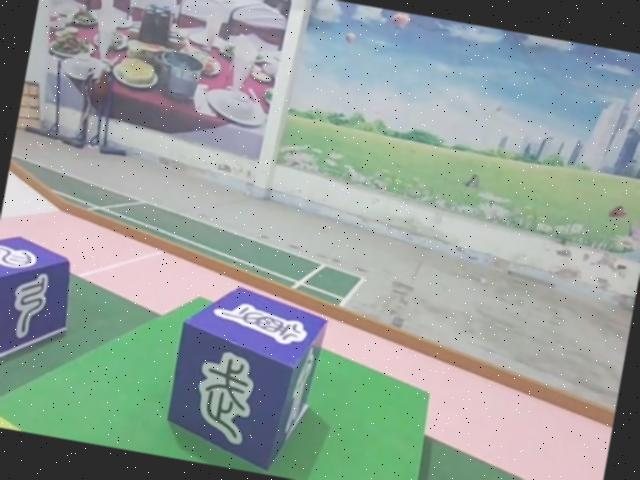R2 Fake Blue: (158, 273, 330, 477), (0, 230, 79, 373)
